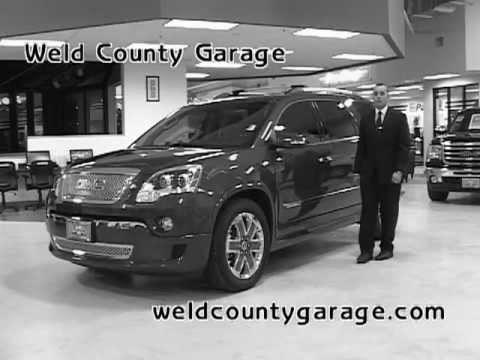car: (42, 85, 379, 291)
